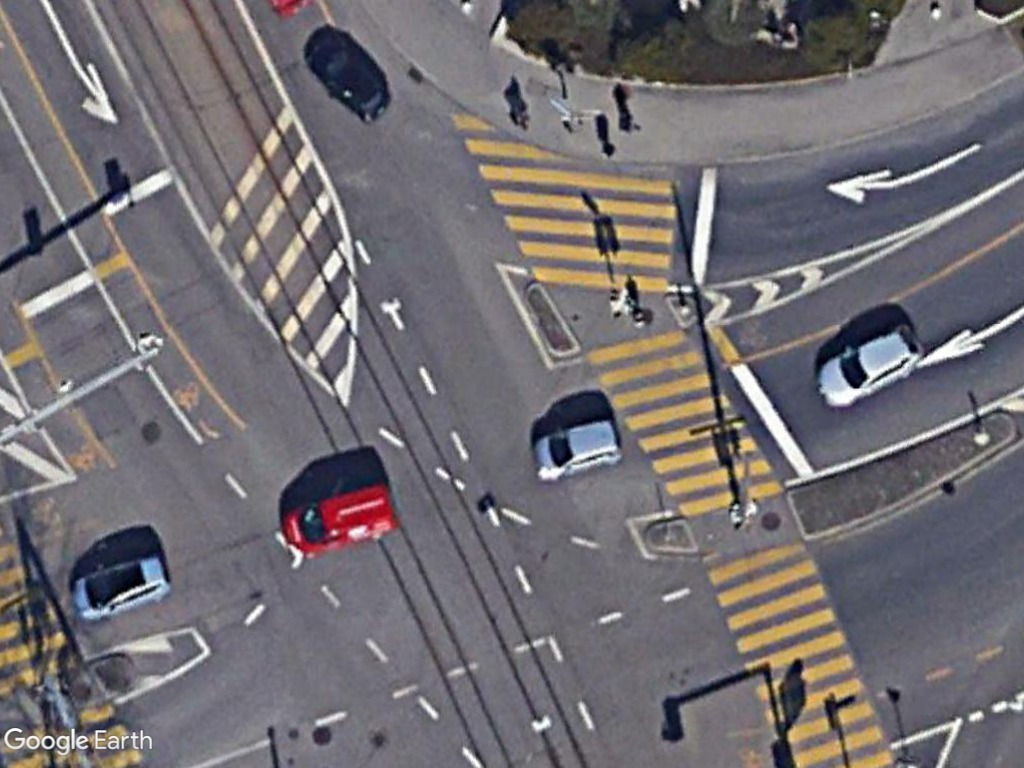car: (813, 321, 926, 410), (69, 549, 175, 625), (532, 416, 630, 482)
van: (276, 478, 397, 560)
